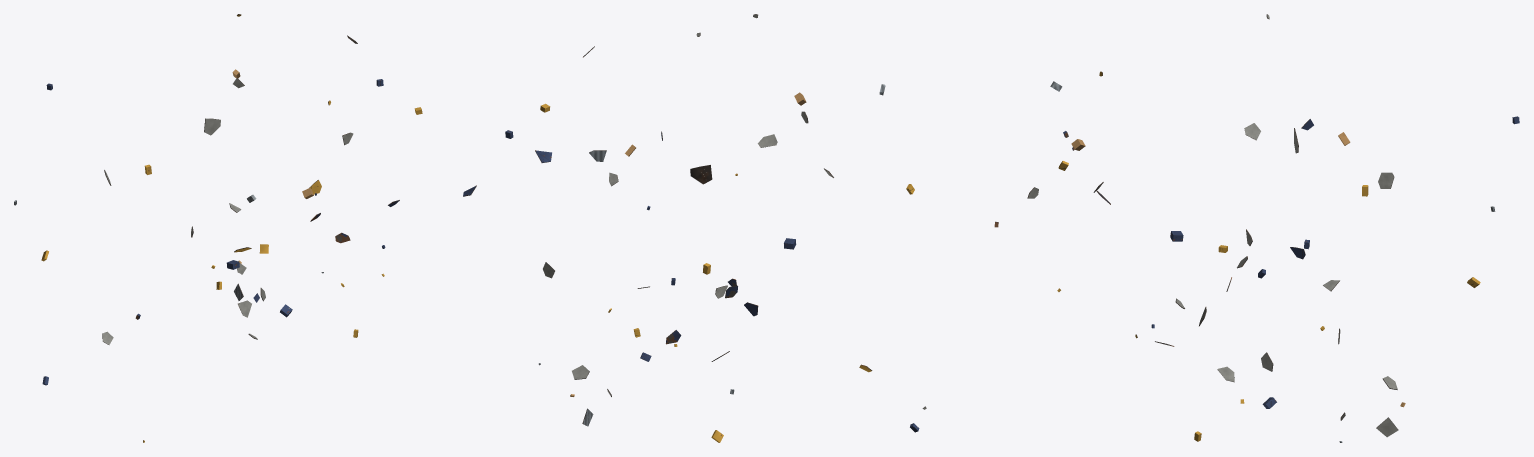
Rendered from Shards.fbx.
3 renders of one model, left to right at view 1: azimuth 30°, elevation 25°; view 2: azimuth 150°, elevation 25°; view 3: azimuth 270°, elevation 25°, orthographic. The views are drawn at different scales.
Visible parts, largest first — view 1: Shards; view 2: Shards; view 3: Shards.
Part boxes in pixels (bbox=[...]): Shards: bbox=[14, 14, 476, 442]; Shards: bbox=[505, 14, 998, 442]; Shards: bbox=[1027, 14, 1519, 442].
Bounding box in the file's own units: 14.65 × 12.49 × 13.59.
